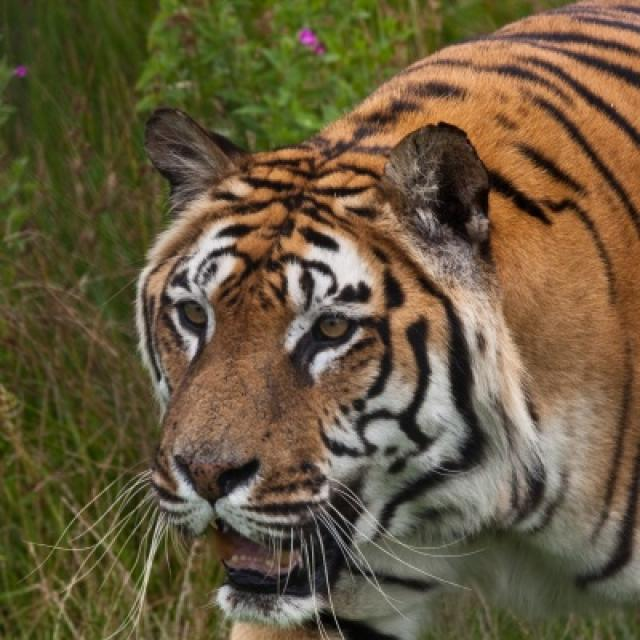Tiger: (136, 0, 638, 638)
